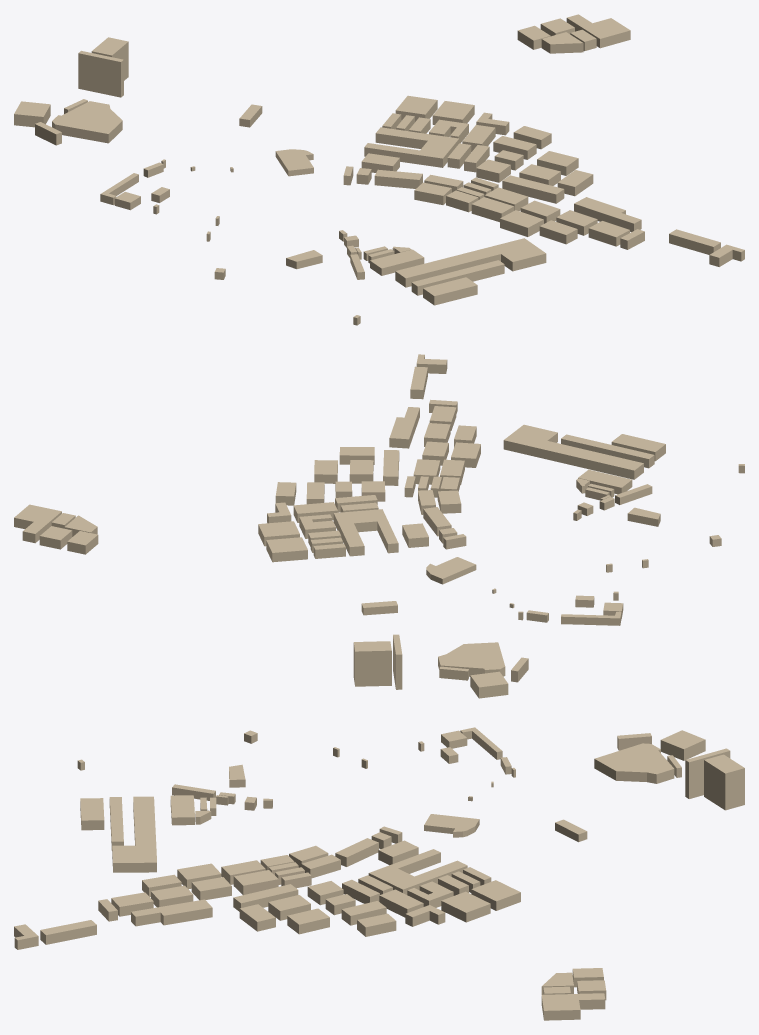
Rendered from -6_9-estimated-coarse.glb.
The picture shows the model from 3 angles, top to bottom: view 1: azimuth 30°, elevation 25°; view 2: azimuth 150°, elevation 25°; view 3: azimuth 270°, elevation 25°; orthographic projection. The views are drawn at different scales.
Bounding box in the file's own units: 946 × 57 × 1024.
